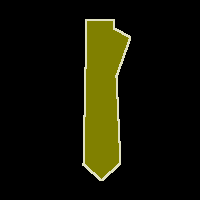tie: (83, 19, 130, 180)
